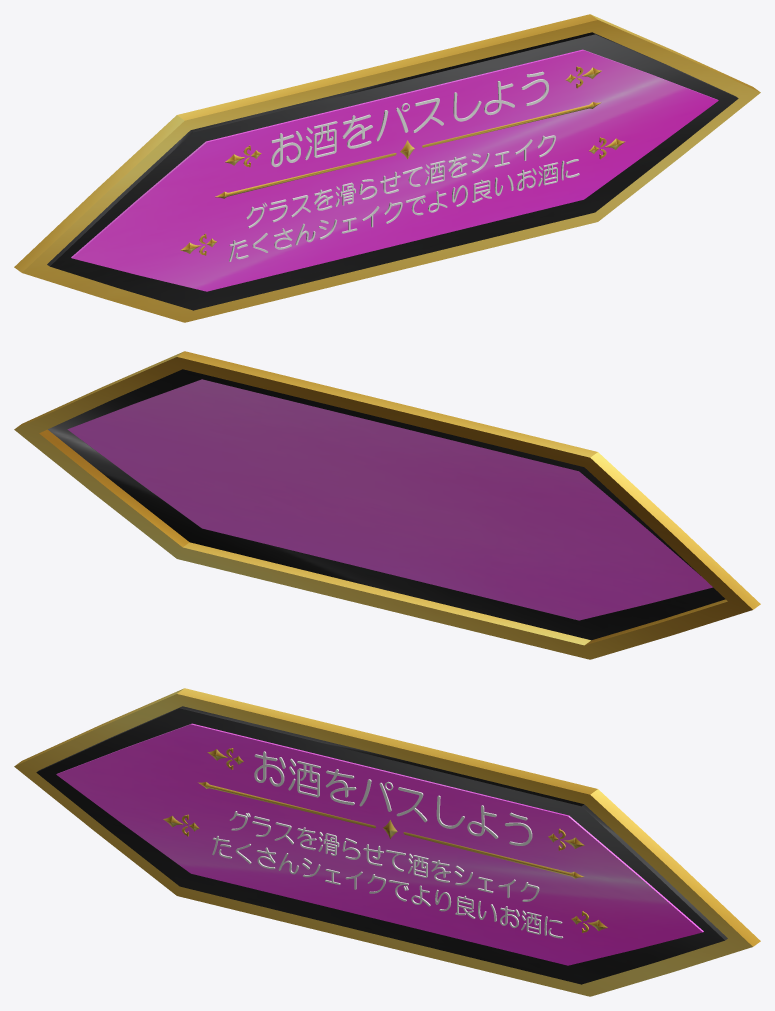
Rendered from tutorial .obj.
The picture shows the model from 3 angles, top to bottom: view 1: azimuth 30°, elevation 25°; view 2: azimuth 150°, elevation 25°; view 3: azimuth 330°, elevation 25°; orthographic projection.
Visible parts, largest first — view 1: 立方体.002, 立方体, 立方体.001, テキスト.003, 立方体.011, 立方体.012; view 2: 立方体.002, 立方体, 立方体.001; view 3: 立方体.002, 立方体, 立方体.001, テキスト.003, 立方体.012, 立方体.011.
Boxes of the visible parts, box(x1,y1,x2,y2) form: 立方体.002: box(71, 49, 718, 291); 立方体: box(14, 14, 760, 322); 立方体.001: box(47, 32, 738, 310); テキスト.003: box(229, 71, 579, 261); 立方体.011: box(215, 153, 396, 198); 立方体.012: box(422, 102, 601, 147); 立方体.002: box(67, 379, 712, 620); 立方体: box(14, 351, 760, 659); 立方体.001: box(48, 369, 725, 640); 立方体.002: box(56, 723, 703, 965); 立方体: box(14, 688, 760, 996); 立方体.001: box(36, 706, 727, 984); テキスト.003: box(212, 751, 563, 938); 立方体.012: box(403, 832, 583, 878); 立方体.011: box(198, 782, 375, 828).
Bounding box in the file's own units: 9.03 × 2.36 × 0.3007.
Materials: 2 (2 with a texture image).
